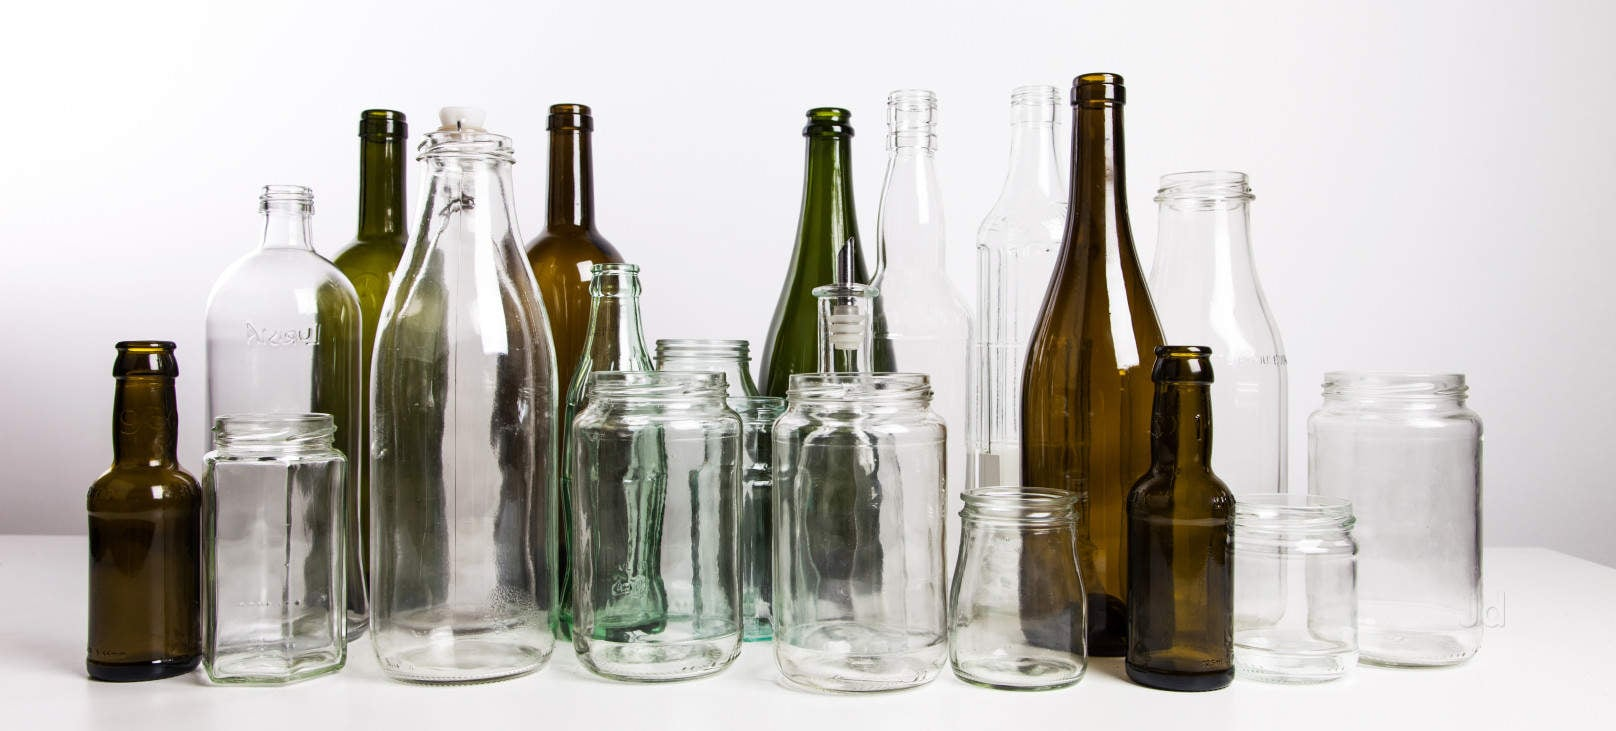glass_bottle: (83, 330, 202, 686)
